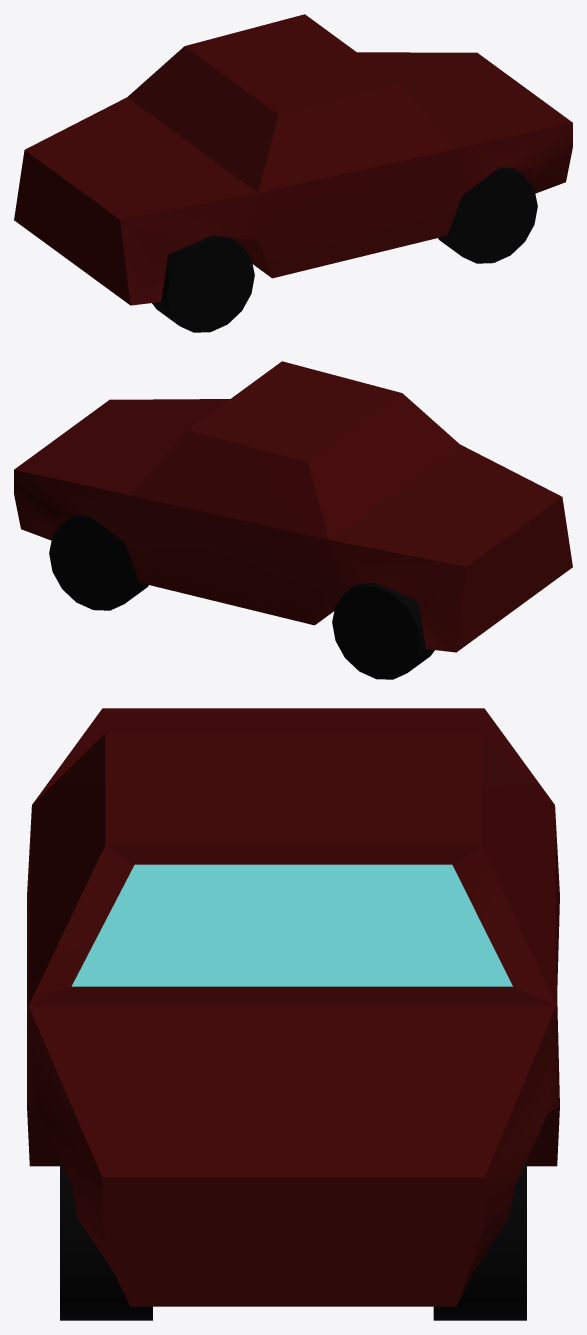
The model's file is Car.fbx.
The picture shows the model from 3 angles, top to bottom: view 1: azimuth 30°, elevation 25°; view 2: azimuth 150°, elevation 25°; view 3: azimuth 270°, elevation 25°; orthographic projection. The views are drawn at different scales.
Visible parts, largest first — view 1: Car; view 2: Car; view 3: Car.
Part boxes in pixels (x1,y1,x2,y2): Car: [14, 14, 572, 332]; Car: [14, 361, 572, 679]; Car: [27, 708, 559, 1320].
Bounding box in the file's own units: 11.92 × 4.83 × 6.08.
